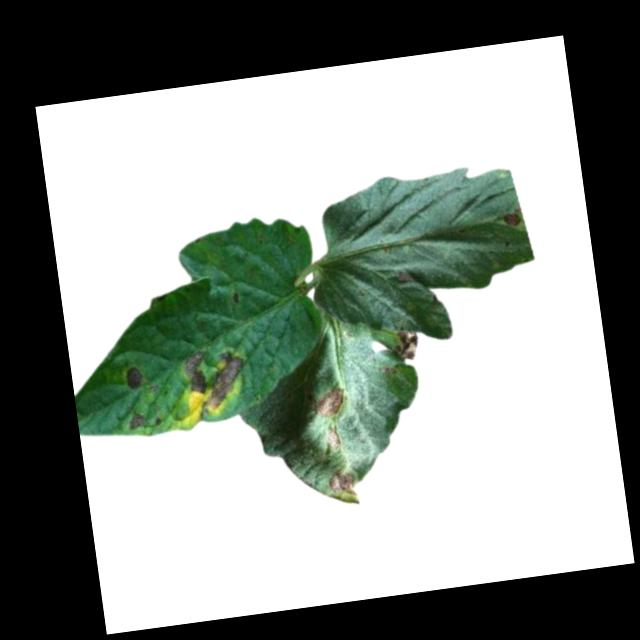Early_blight: (181, 343, 249, 415), (314, 385, 348, 421), (392, 327, 423, 365), (327, 470, 358, 499), (121, 364, 144, 393), (126, 407, 146, 434), (499, 209, 521, 231), (327, 423, 342, 448), (396, 268, 412, 289)
